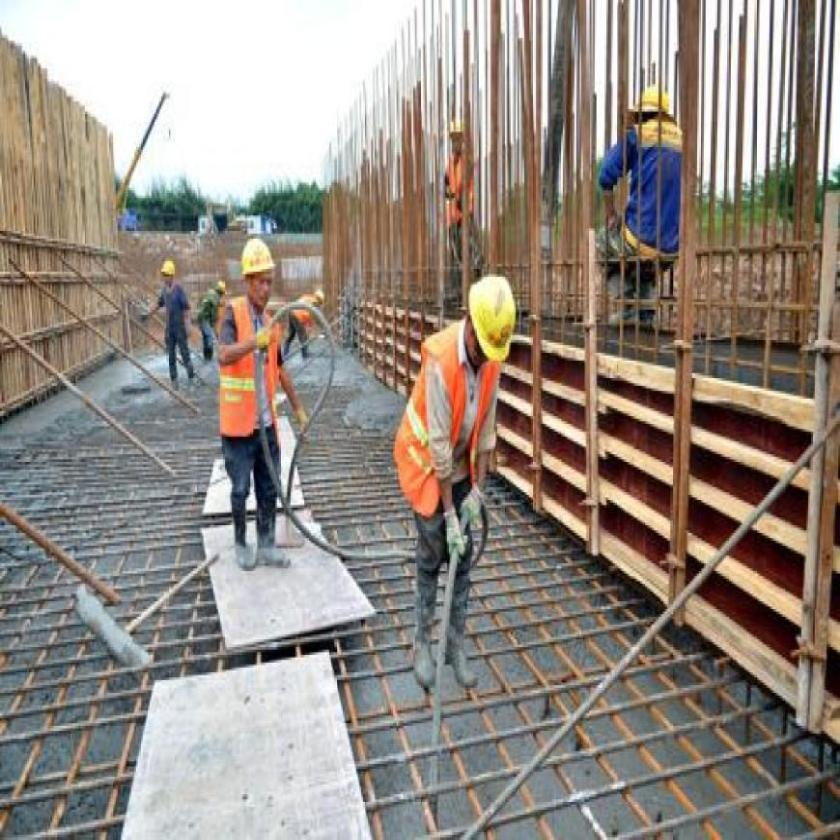Con_casco: (459, 276, 520, 375), (236, 231, 293, 328)
